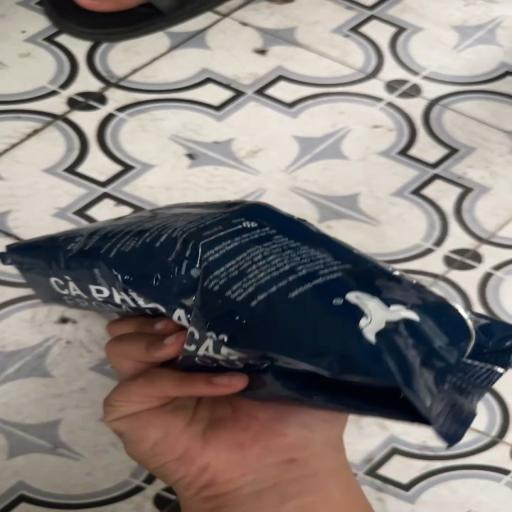cafe_hat: (0, 201, 511, 444)
